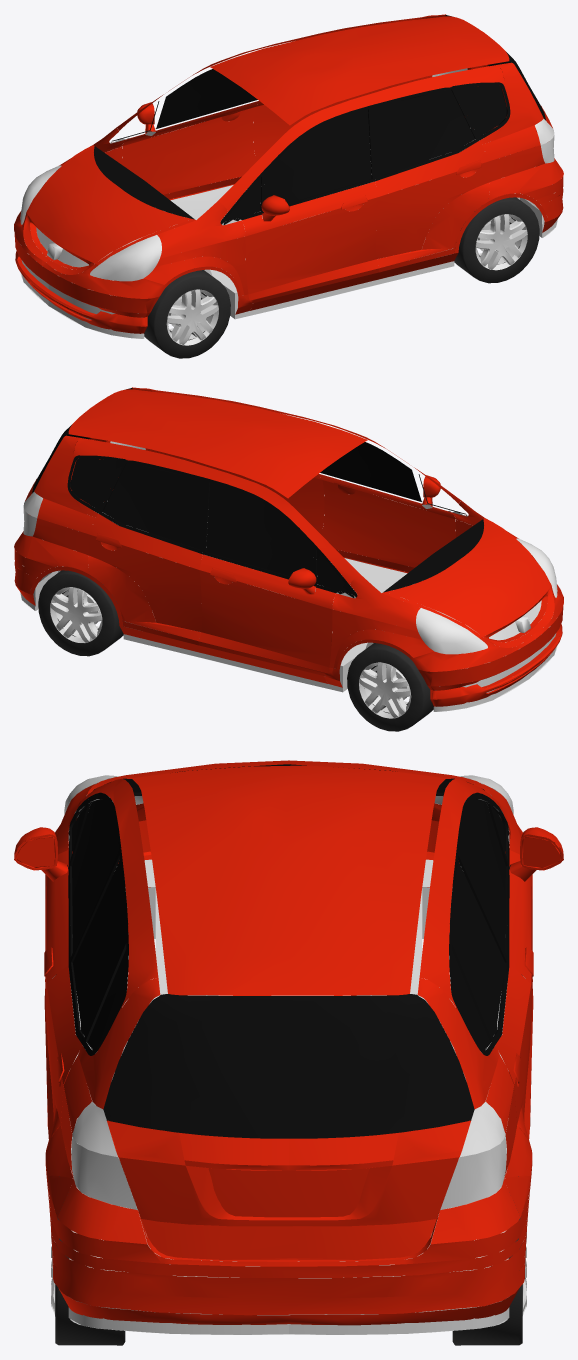
File: t_fit.glb
3 views of the same model, one above another, from view 1: azimuth 30°, elevation 25°; view 2: azimuth 150°, elevation 25°; view 3: azimuth 270°, elevation 25° (orthographic). The views are drawn at different scales.
Parts seen in each view (by area): view 1: HondaJazz_Material.002_0; view 2: HondaJazz_Material.002_0; view 3: HondaJazz_Material.002_0.
Boxes of the visible parts, x1,y1,x2,y2 form: HondaJazz_Material.002_0: (14, 14, 563, 358); HondaJazz_Material.002_0: (14, 387, 563, 731); HondaJazz_Material.002_0: (14, 760, 563, 1345).
Size of the model in its own units: 7.77 by 3.18 by 3.9.
